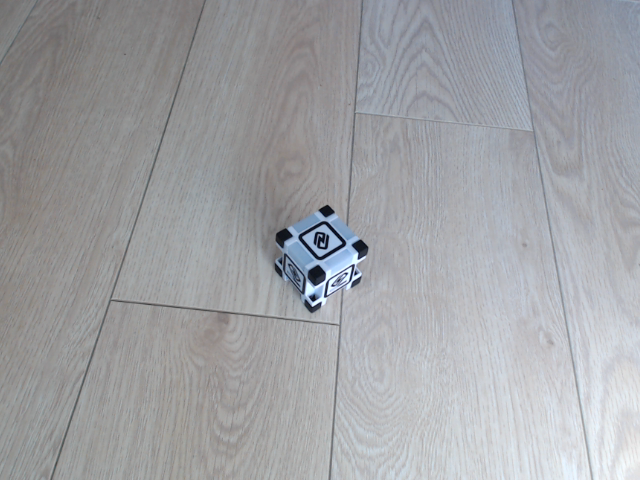block: (273, 202, 370, 315)
